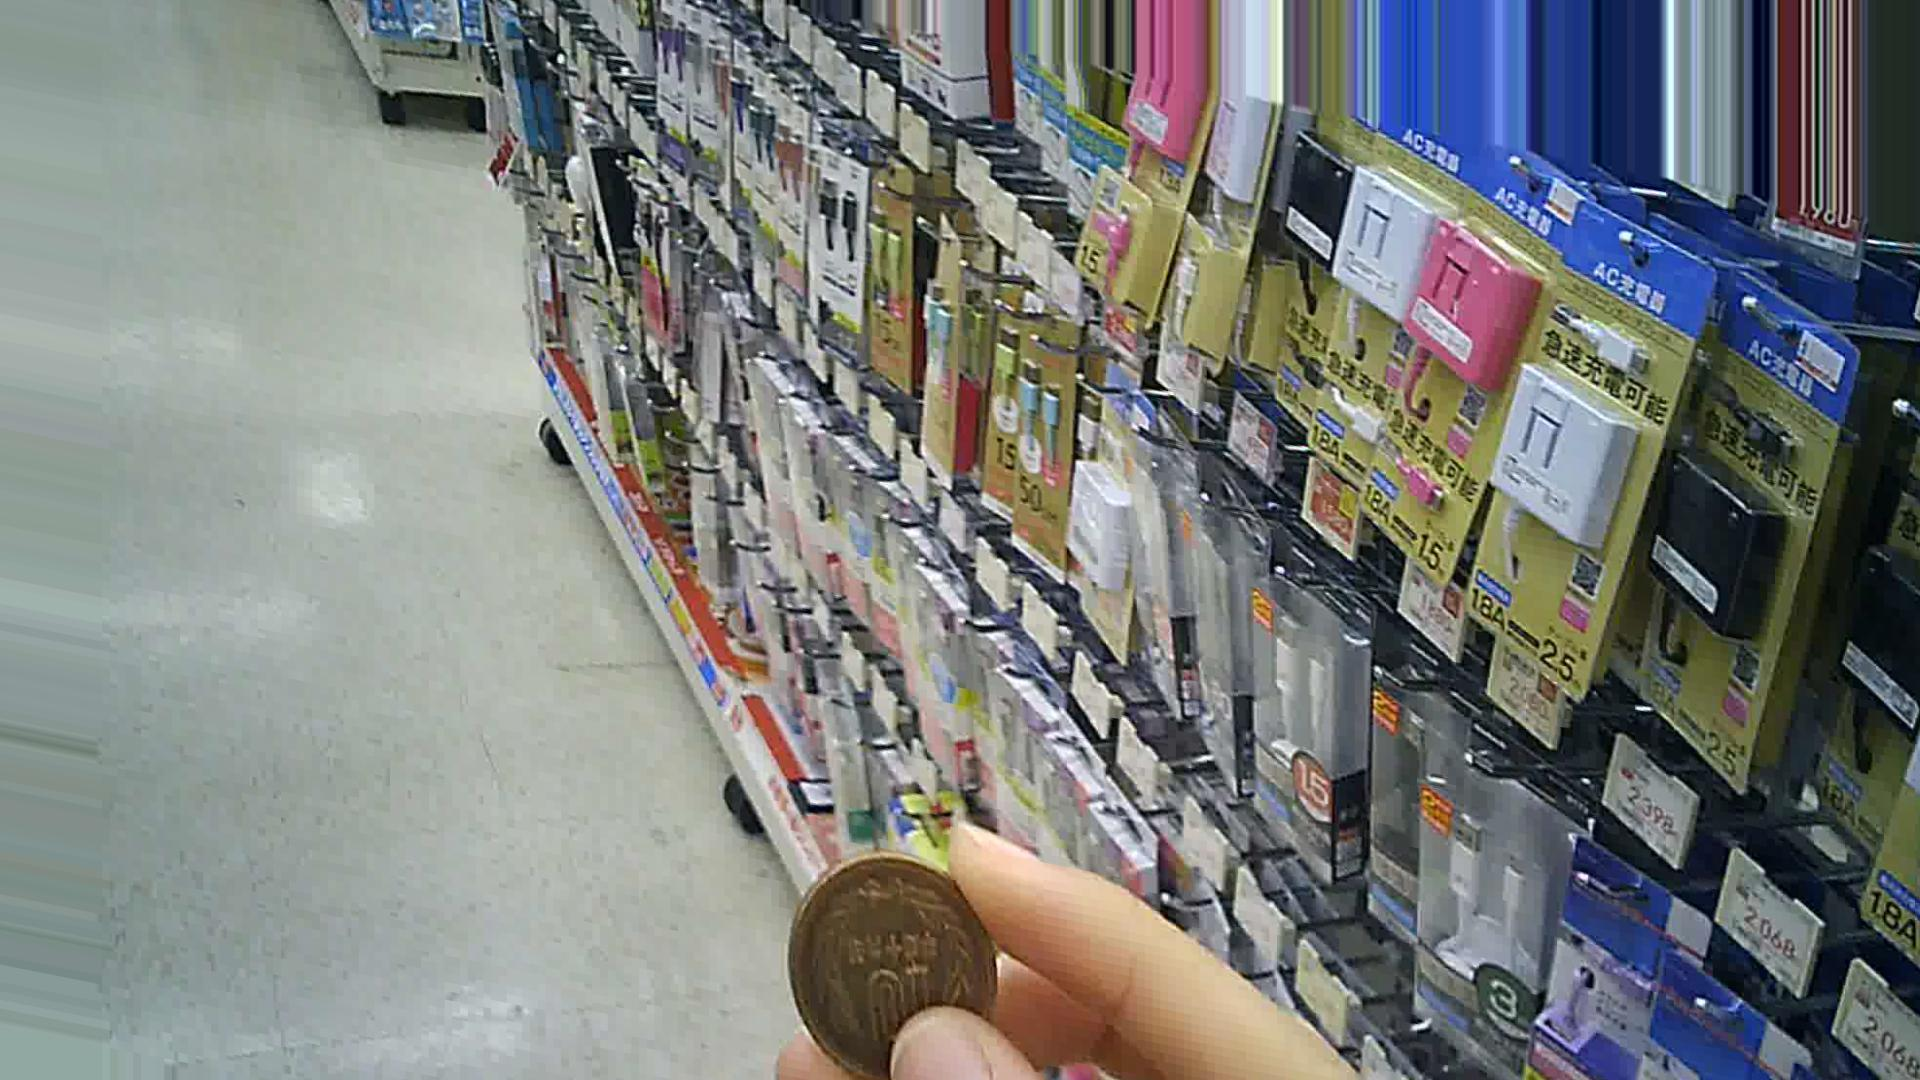10 Yen: (781, 847, 998, 1056)
